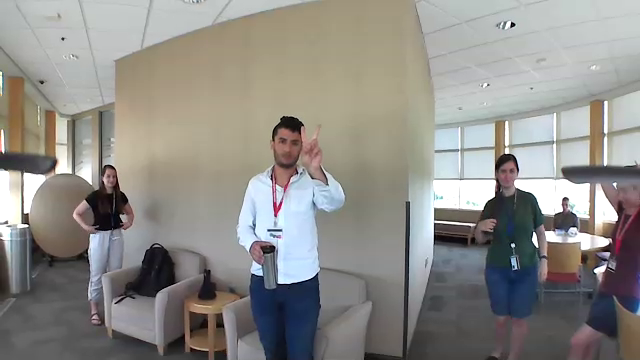peace: (294, 113, 329, 168)
